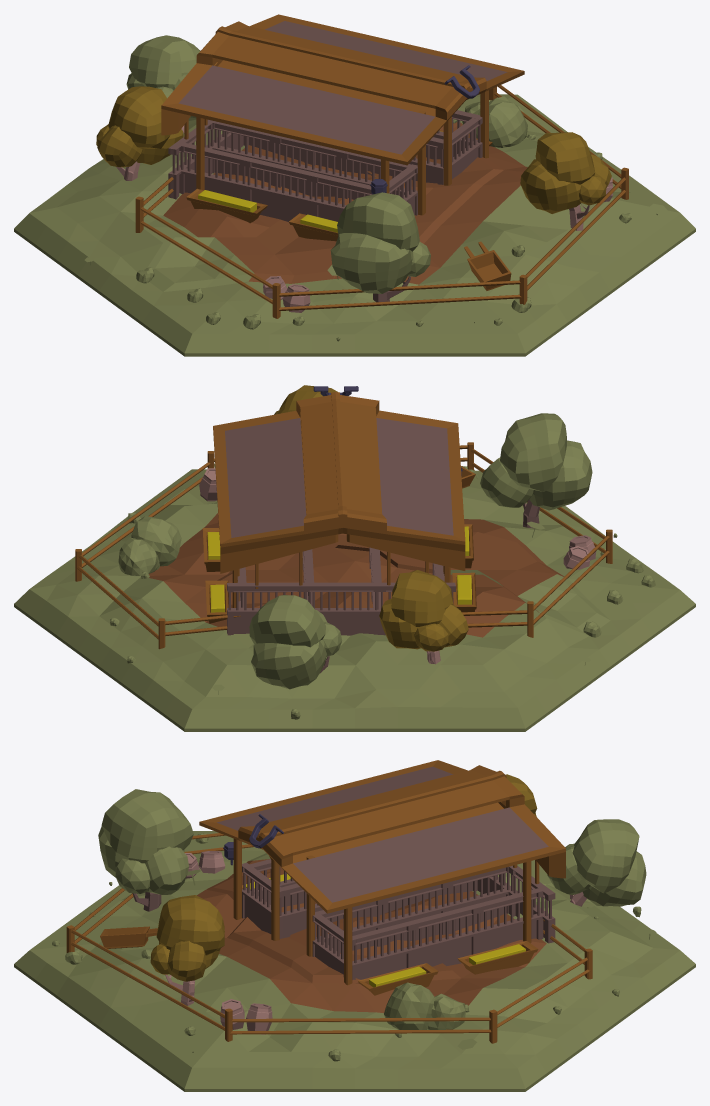
The model's file is stable.glb.
The picture shows the model from 3 angles, top to bottom: view 1: azimuth 30°, elevation 25°; view 2: azimuth 150°, elevation 25°; view 3: azimuth 270°, elevation 25°; orthographic projection.
Parts seen in each view (by area): view 1: land, building, big_details, small_details; view 2: land, building, big_details, small_details; view 3: land, building, big_details, small_details.
Part boxes in pixels (x1,y1,x2,y2): land: [14, 94, 695, 356]; building: [135, 14, 628, 318]; big_details: [96, 35, 612, 312]; small_details: [84, 106, 667, 341]; land: [14, 469, 695, 731]; building: [75, 386, 612, 649]; big_details: [118, 385, 596, 689]; small_details: [74, 463, 655, 719]; land: [14, 831, 695, 1091]; building: [66, 760, 592, 1043]; big_details: [98, 774, 646, 1034]; small_details: [52, 833, 656, 1061].
Bounding box in the file's own units: 1.73 × 0.5755 × 2.
